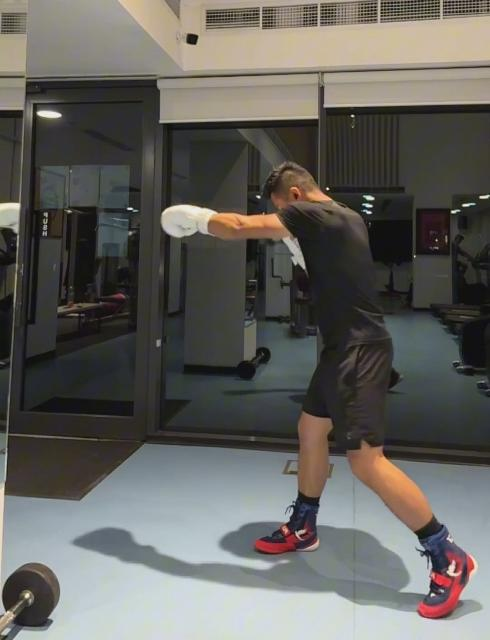punch: (159, 158, 480, 622)
